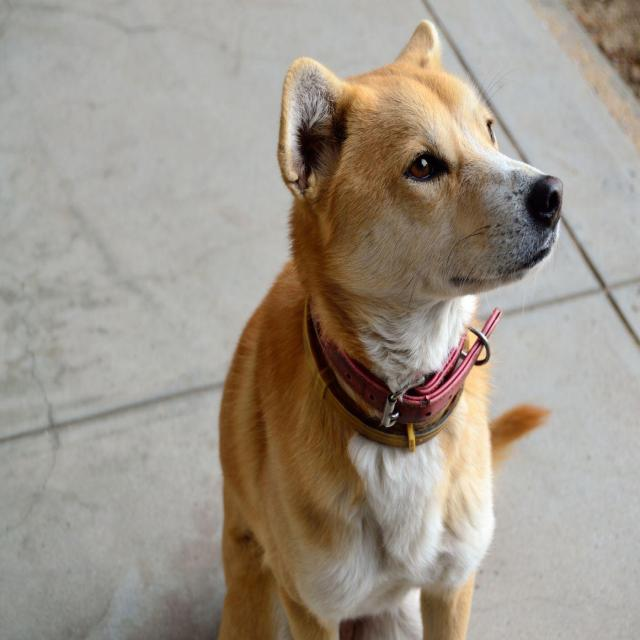Dog: (267, 12, 571, 340)
